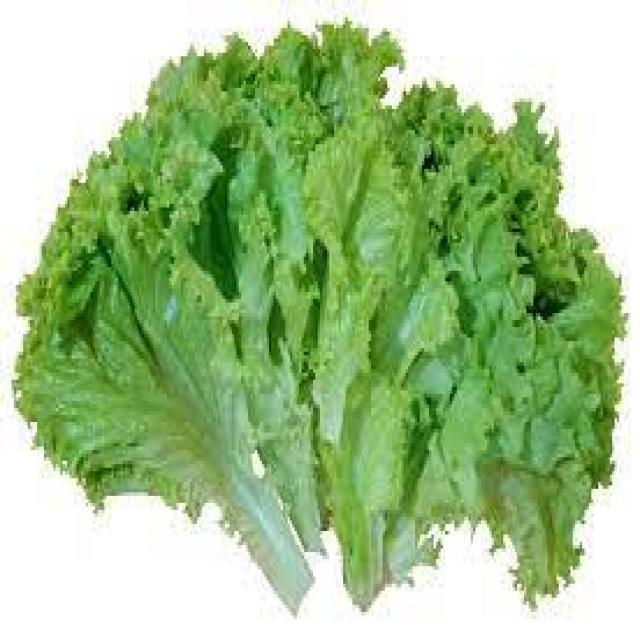Lettuce: (20, 20, 620, 605)
